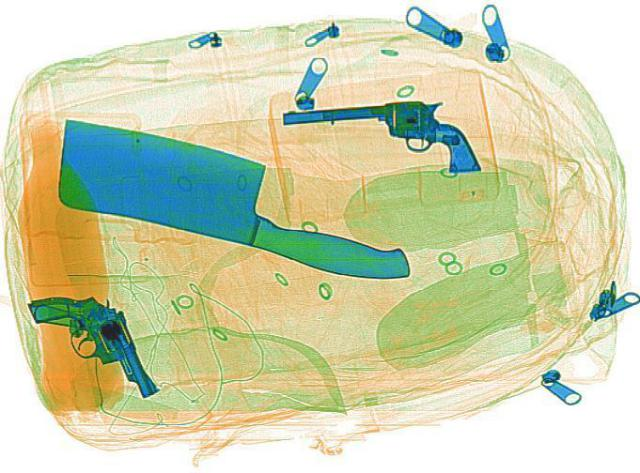Gun: (18, 275, 188, 407), (281, 97, 479, 179)
Knife: (21, 109, 446, 284)
